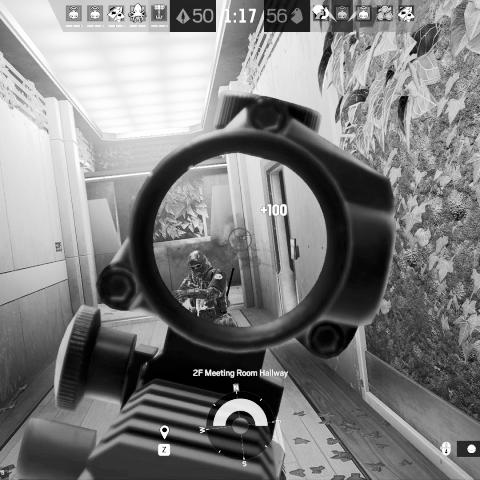Character: (172, 250, 240, 328)
Head: (186, 250, 212, 277)
